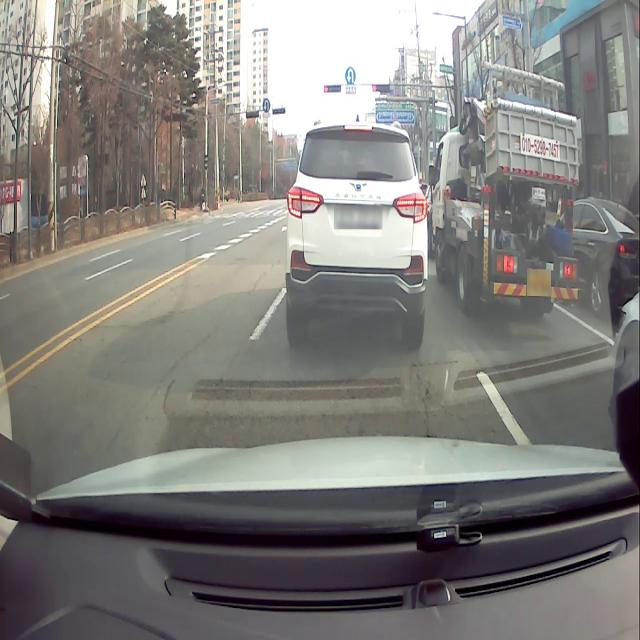Red Light: (372, 83, 378, 93), (323, 85, 329, 93)
